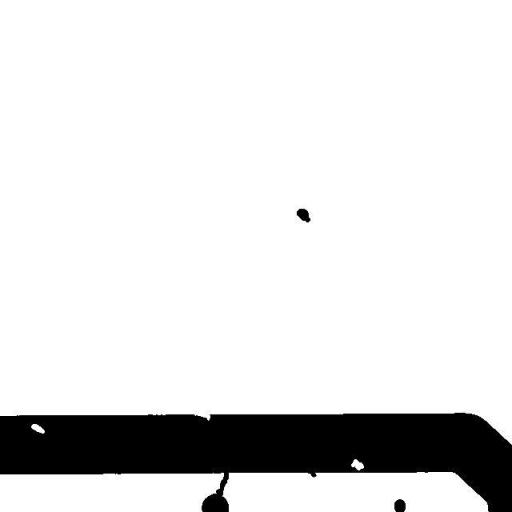copper: (291, 202, 318, 230)
mousebite: (186, 406, 217, 428)
pin-hole: (343, 451, 371, 478), (24, 416, 52, 441)
short: (208, 463, 236, 503)
spur: (300, 462, 324, 485)
